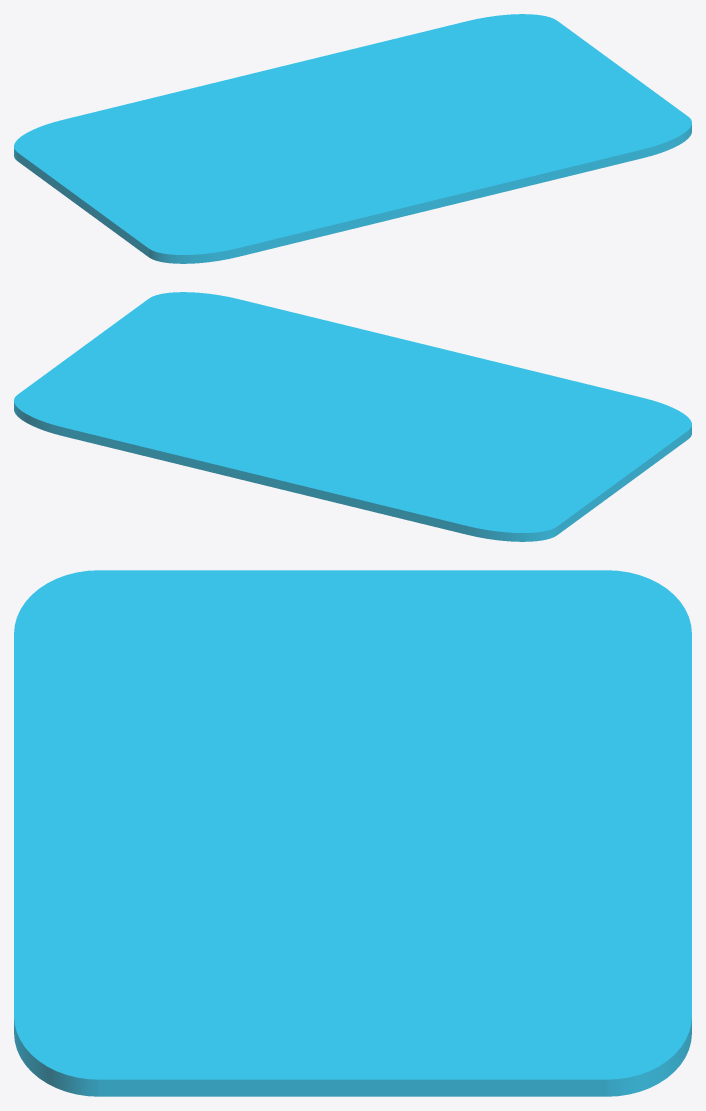
File: EntityPanel.glb
3 views of the same model, one above another, from view 1: azimuth 30°, elevation 25°; view 2: azimuth 150°, elevation 25°; view 3: azimuth 270°, elevation 25° (orthographic). The views are drawn at different scales.
Parts seen in each view (by area): view 1: EntityPanel; view 2: EntityPanel; view 3: EntityPanel.
Part boxes in pixels (x1=…): EntityPanel: x1=14, y1=14, x2=691, y2=263; EntityPanel: x1=14, y1=292, x2=691, y2=541; EntityPanel: x1=14, y1=570, x2=691, y2=1096.
Bounding box in the file's own units: 1.6 × 0.025 × 0.9.
